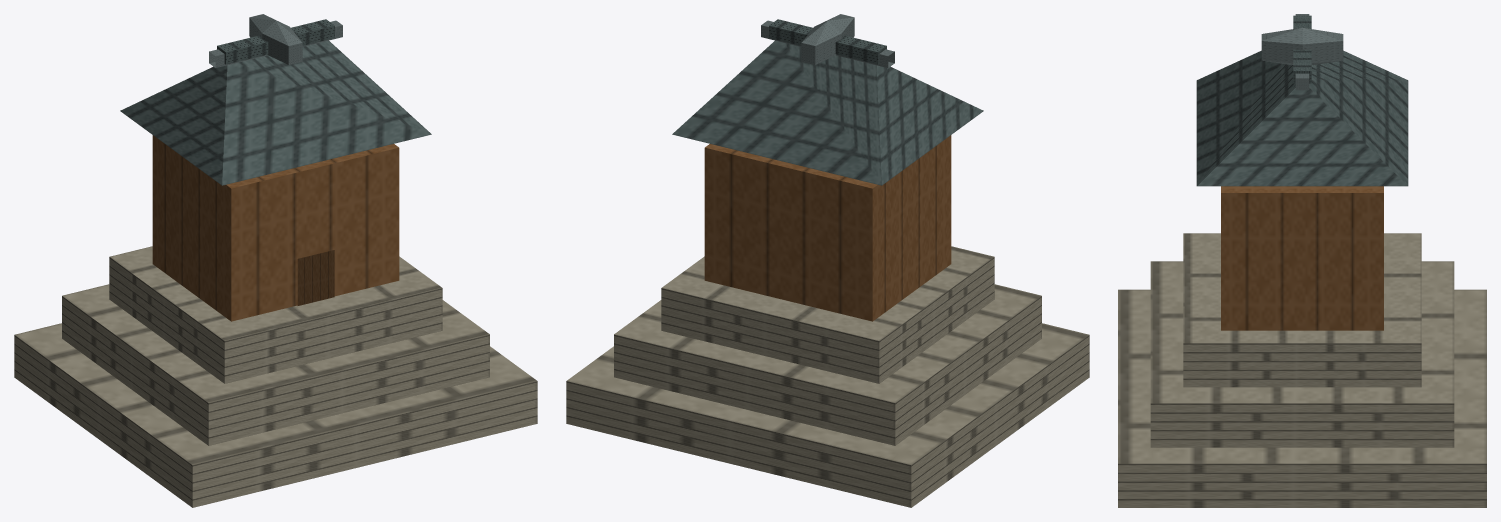
Rendered from domestic-BRONZE_TERRACE-1-lod2.glb.
3 renders of one model, left to right at view 1: azimuth 30°, elevation 25°; view 2: azimuth 150°, elevation 25°; view 3: azimuth 270°, elevation 25°, orthographic. The views are drawn at different scales.
Size of the model in its own units: 0.76 by 0.8 by 0.68.
1 material, 1 textured.
